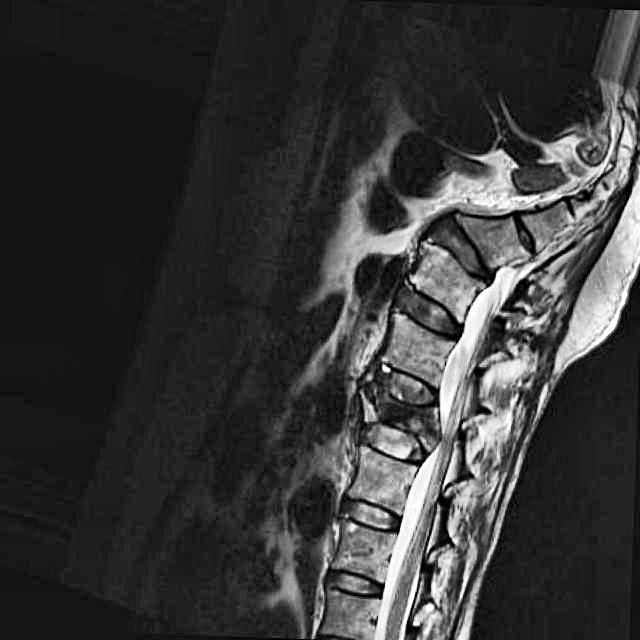Comminuted: (340, 358, 452, 482)
